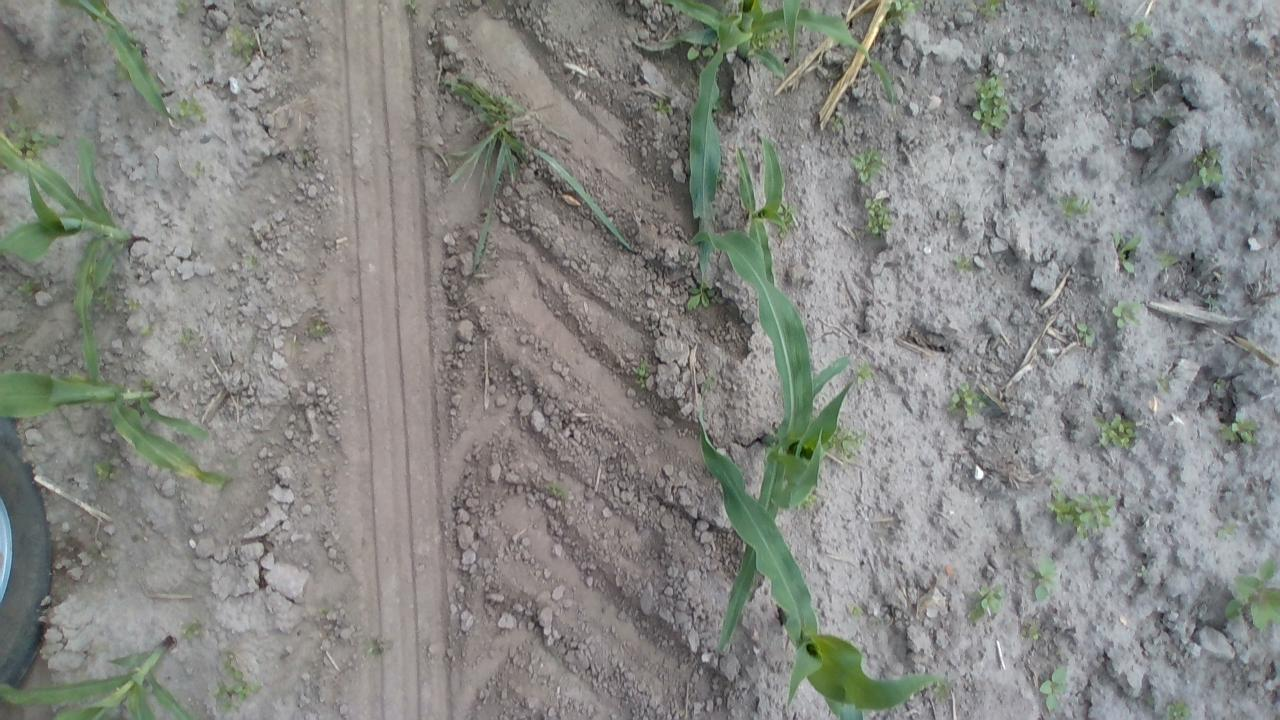Maize: (692, 370, 942, 720), (630, 0, 900, 284), (677, 226, 852, 660), (0, 123, 145, 382), (0, 363, 232, 487), (55, 0, 178, 128), (0, 641, 197, 720), (731, 132, 794, 286)
Weeds: (441, 74, 630, 262), (1223, 556, 1280, 633), (1046, 490, 1116, 539), (972, 70, 1011, 133), (6, 120, 58, 166), (826, 425, 869, 467), (1094, 413, 1137, 449), (966, 582, 1004, 622), (214, 680, 262, 710), (1026, 556, 1058, 601), (946, 382, 986, 417), (226, 24, 260, 65), (1038, 666, 1068, 710), (1194, 148, 1226, 188), (1111, 230, 1140, 274), (878, 0, 922, 29), (1220, 412, 1258, 444), (850, 149, 884, 183), (864, 196, 891, 235), (173, 94, 208, 122), (772, 202, 799, 238), (686, 280, 716, 310), (752, 28, 788, 52), (1112, 300, 1142, 326), (1058, 194, 1090, 218), (686, 40, 719, 62), (928, 676, 952, 704), (1123, 22, 1153, 44), (92, 286, 115, 313), (632, 360, 650, 389), (1164, 701, 1190, 720), (222, 659, 244, 681), (93, 458, 112, 483), (1076, 322, 1094, 348), (711, 92, 727, 121), (1174, 178, 1194, 201), (854, 362, 874, 384), (1078, 0, 1102, 18), (17, 277, 38, 297), (181, 620, 202, 640), (978, 0, 1002, 17), (952, 255, 974, 273), (199, 47, 216, 70), (113, 58, 130, 80), (1160, 248, 1178, 268), (798, 493, 818, 510), (1148, 63, 1164, 84), (546, 483, 568, 498), (1156, 374, 1172, 394), (650, 98, 670, 114), (308, 320, 326, 337), (180, 329, 199, 345), (363, 640, 381, 656), (1217, 524, 1237, 538), (190, 160, 205, 178), (1026, 627, 1042, 643), (830, 116, 844, 132), (6, 95, 19, 112), (1204, 295, 1218, 310), (174, 0, 189, 14), (138, 378, 154, 391), (1130, 78, 1144, 92), (244, 254, 258, 268), (124, 297, 139, 310), (846, 603, 862, 615), (404, 0, 418, 13), (1137, 565, 1148, 576), (1051, 477, 1062, 488), (1214, 379, 1226, 389), (140, 326, 152, 336), (716, 172, 725, 182)
